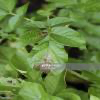Potato leaf early blight: (27, 39, 68, 77), (0, 76, 48, 99), (13, 29, 48, 45)
